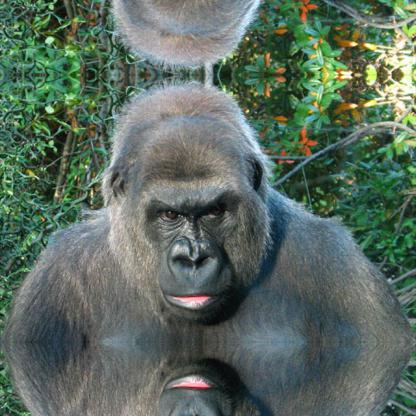Monkey: (0, 74, 408, 332), (0, 0, 409, 75), (0, 350, 409, 415)
